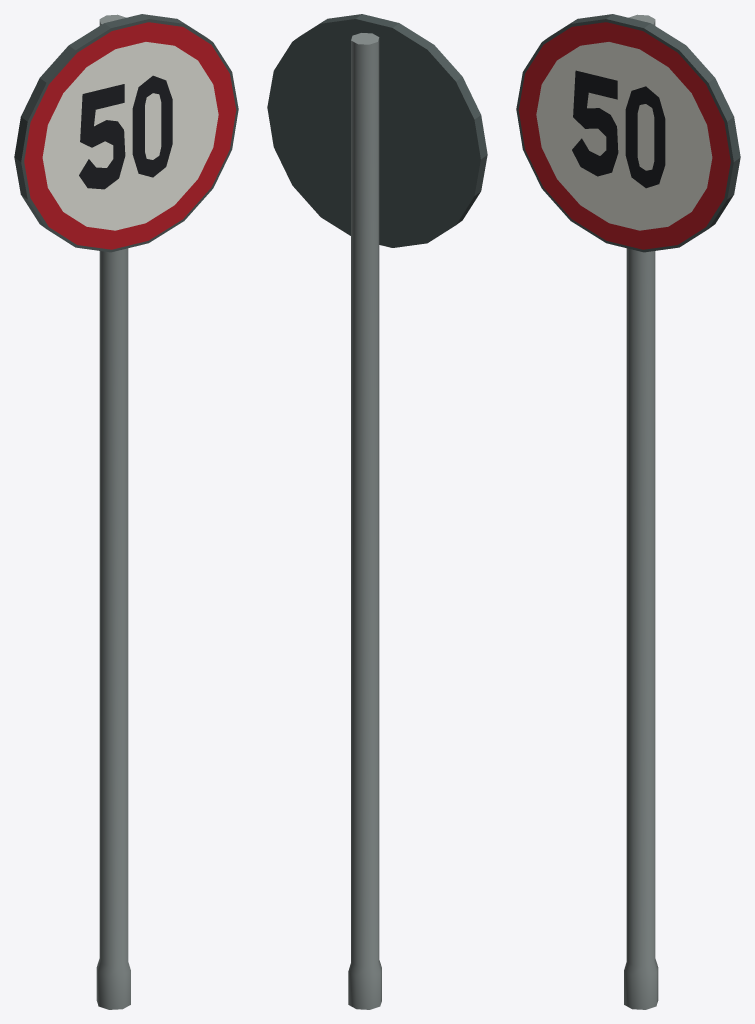
The model's file is sg-speed-sign.glb.
3 renders of one model, left to right at view 1: azimuth 30°, elevation 25°; view 2: azimuth 150°, elevation 25°; view 3: azimuth 330°, elevation 25°, orthographic.
Parts seen in each view (by area): view 1: round_speed_face, post; view 2: round_speed_face, post; view 3: round_speed_face, post.
Part boxes in pixels (x1,y1,x2,y2): round_speed_face: (14,14,238,252); post: (96,14,130,1009); round_speed_face: (267,14,487,247); post: (348,33,381,1009); round_speed_face: (516,14,740,252); post: (624,14,658,1009).
Bounding box in the file's own units: 0.64 × 2.79 × 0.1322.
